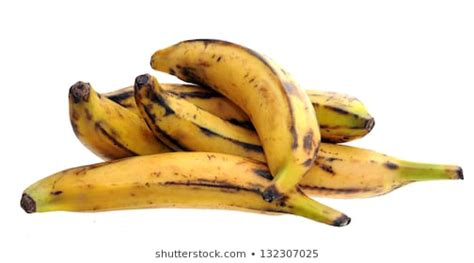banana: (133, 73, 466, 203), (147, 35, 325, 202), (11, 150, 361, 233)
